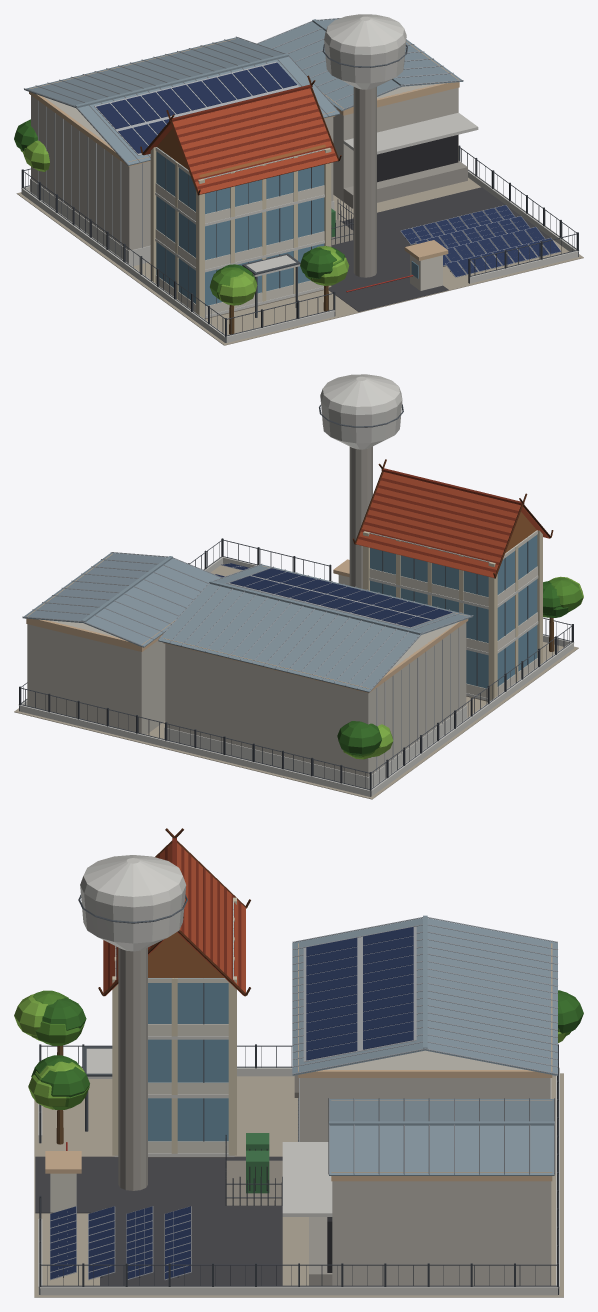
File: factory_4.glb
3 renders of one model, top to bottom at view 1: azimuth 30°, elevation 25°; view 2: azimuth 150°, elevation 25°; view 3: azimuth 270°, elevation 25°, orthographic. The views are drawn at different scales.
Visible parts, largest first — view 1: body; view 2: body; view 3: body.
Part boxes in pixels (left/top/right/bottom): body: left=14, top=14, right=583, bottom=345; body: left=14, top=374, right=583, bottom=799; body: left=14, top=828, right=583, bottom=1297.
Size of the model in its own units: 32.41 by 21.63 by 34.34.
